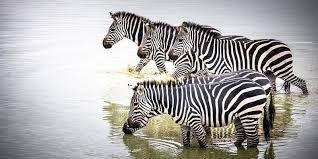zebra: (119, 73, 268, 156), (167, 21, 312, 98), (100, 9, 232, 82), (134, 21, 241, 79)
